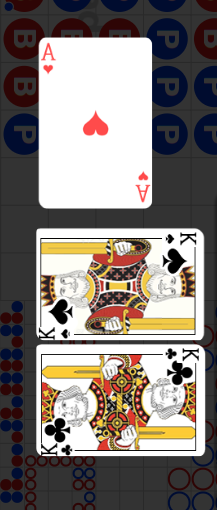AH: (41, 42, 58, 77)
KC: (160, 346, 201, 365)
KS: (161, 230, 198, 247)
